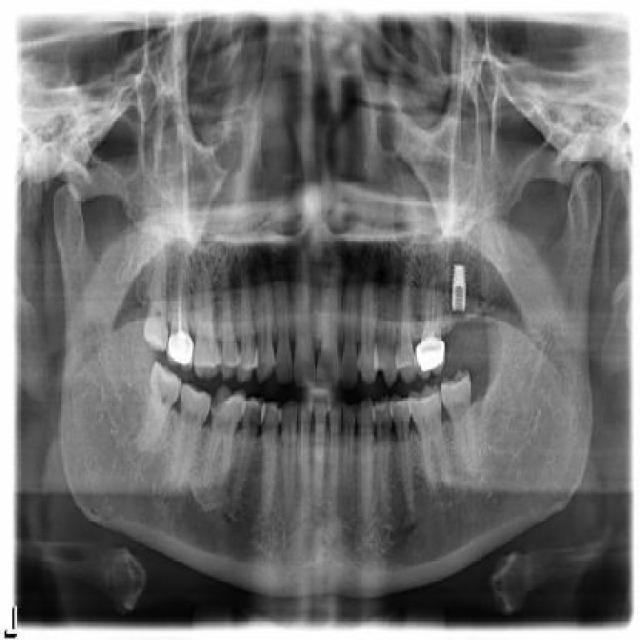implant: (445, 252, 470, 310)
kanal-tedavisi: (169, 272, 188, 332), (420, 291, 441, 342)
kaplama: (416, 330, 447, 376), (165, 327, 197, 364)
